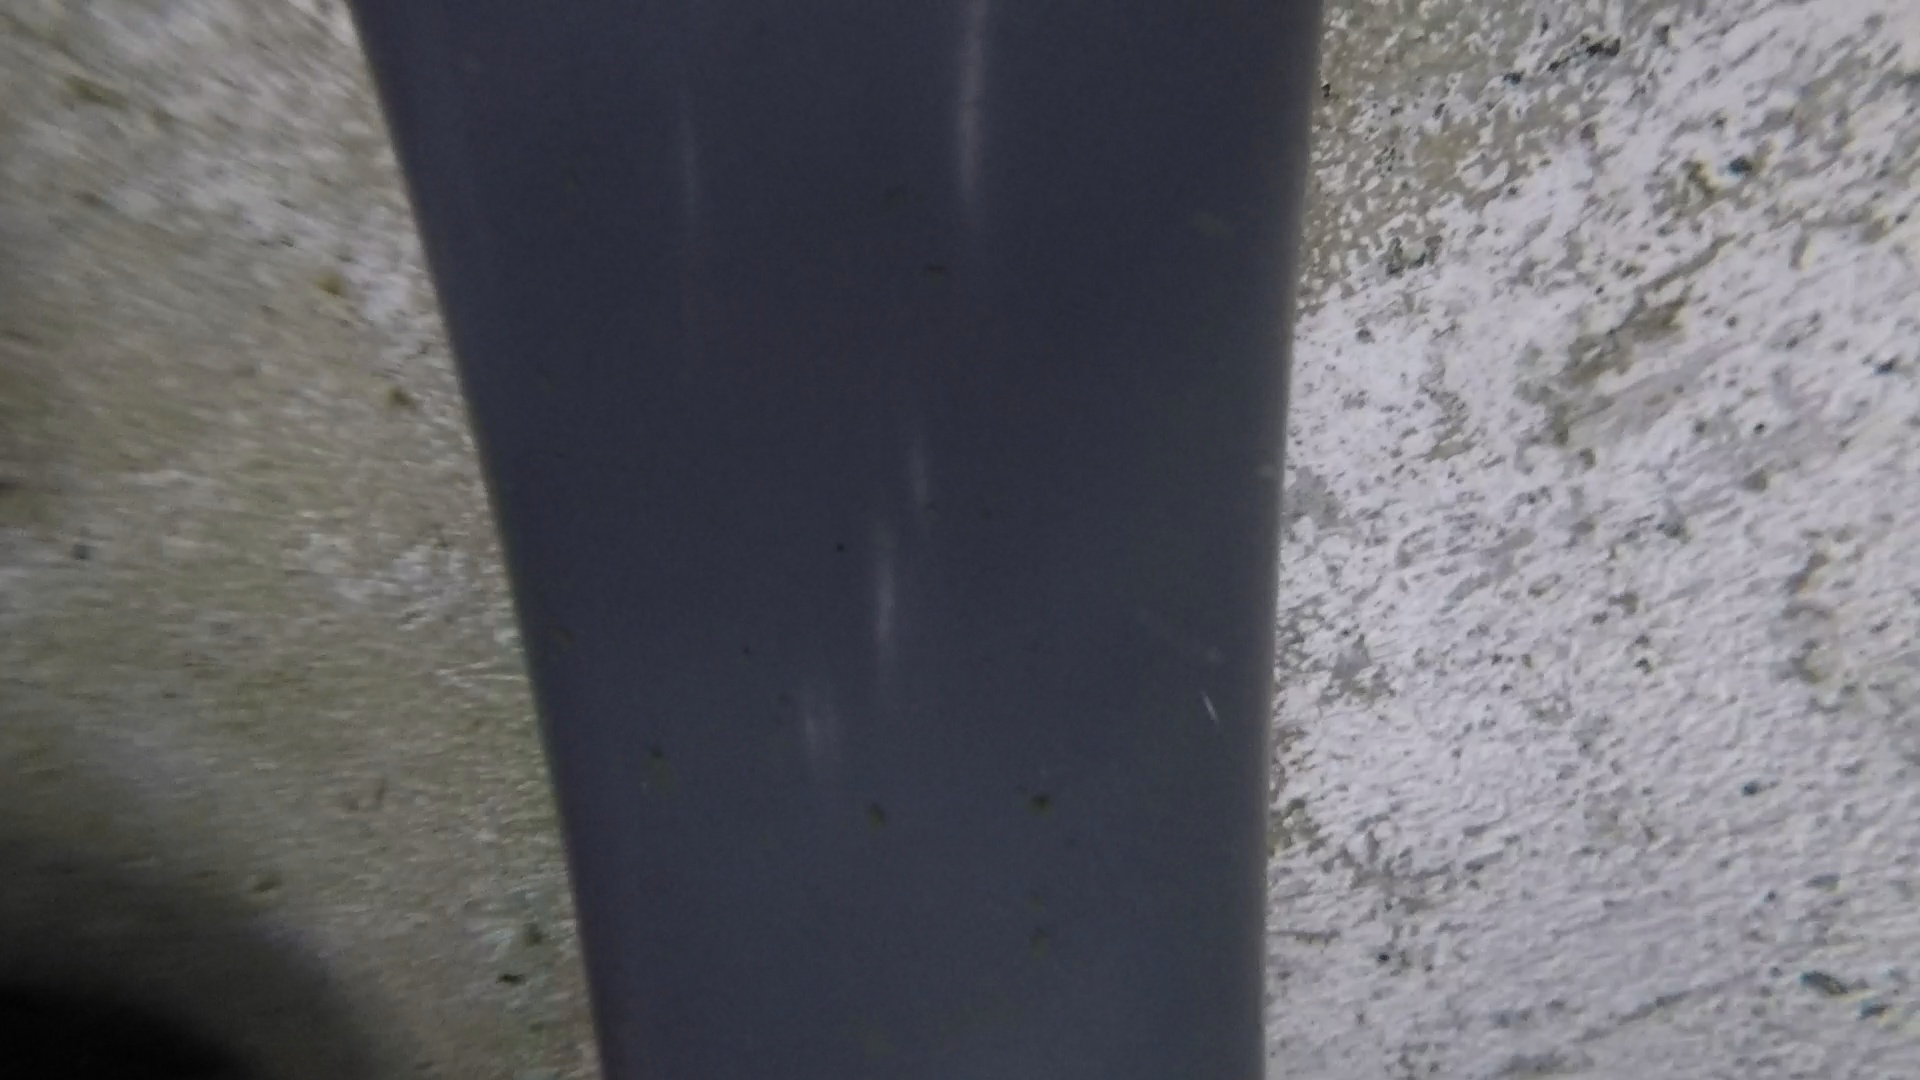pipe: (336, 3, 1325, 1080)
